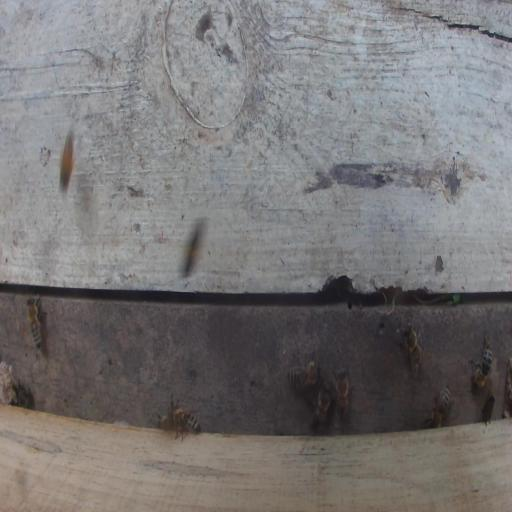nonpollenbee: (181, 219, 207, 278), (399, 319, 423, 378), (468, 333, 492, 390), (26, 292, 47, 351), (287, 354, 320, 391), (333, 367, 351, 430), (425, 386, 451, 428), (170, 408, 201, 443), (311, 383, 332, 430), (157, 393, 175, 431), (480, 394, 495, 425)
pollenbee: (56, 127, 77, 190)
